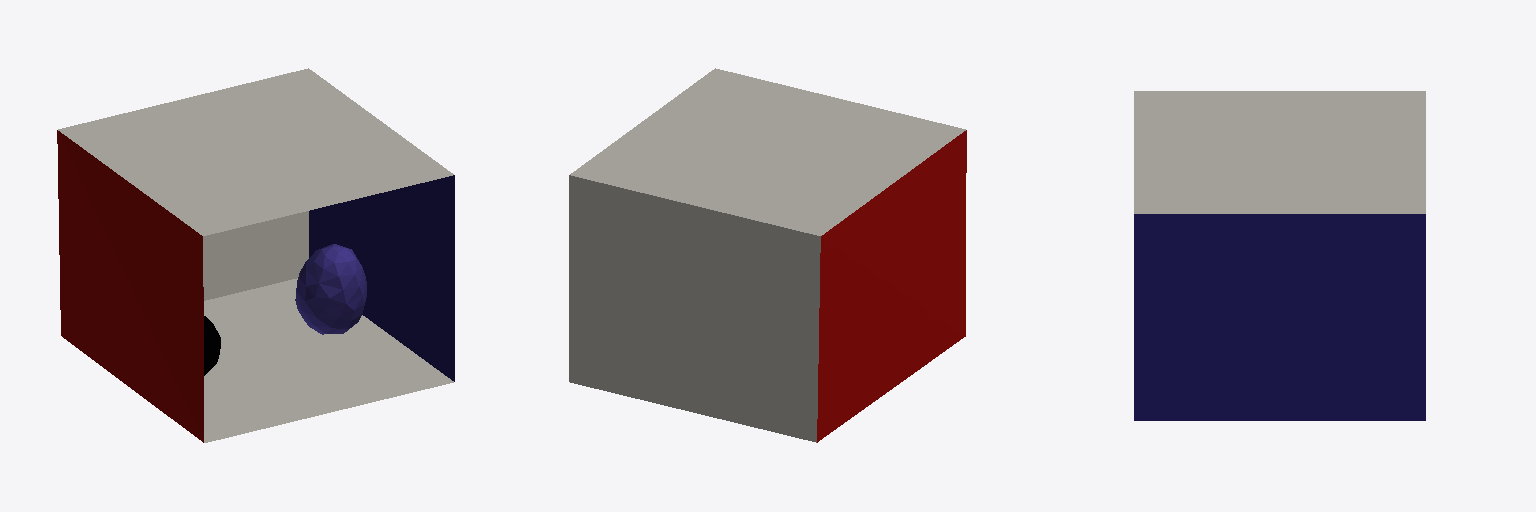
Rendered from CornellBox-Ellipsoid-512.obj.
The picture shows the model from 3 angles: view 1: azimuth 30°, elevation 25°; view 2: azimuth 150°, elevation 25°; view 3: azimuth 270°, elevation 25°; orthographic projection.
Visible parts, largest first — view 1: ceiling, leftWall, floor, rightWall, backWall, leftSphere, rightSphere; view 2: backWall, ceiling, leftWall; view 3: rightWall, ceiling.
Part boxes in pixels (left/top/right/bottom): ceiling: left=58, top=68, right=453, bottom=235; leftWall: left=57, top=130, right=203, bottom=442; floor: left=204, top=278, right=453, bottom=442; rightWall: left=309, top=175, right=454, bottom=381; backWall: left=203, top=211, right=308, bottom=300; leftSphere: left=295, top=244, right=366, bottom=334; rightSphere: left=204, top=316, right=220, bottom=375; backWall: left=569, top=175, right=820, bottom=442; ceiling: left=570, top=68, right=965, bottom=235; leftWall: left=817, top=130, right=966, bottom=442; rightWall: left=1134, top=214, right=1425, bottom=420; ceiling: left=1134, top=91, right=1425, bottom=213.
Bounding box in the file's own units: 2.02 × 1.59 × 2.03.